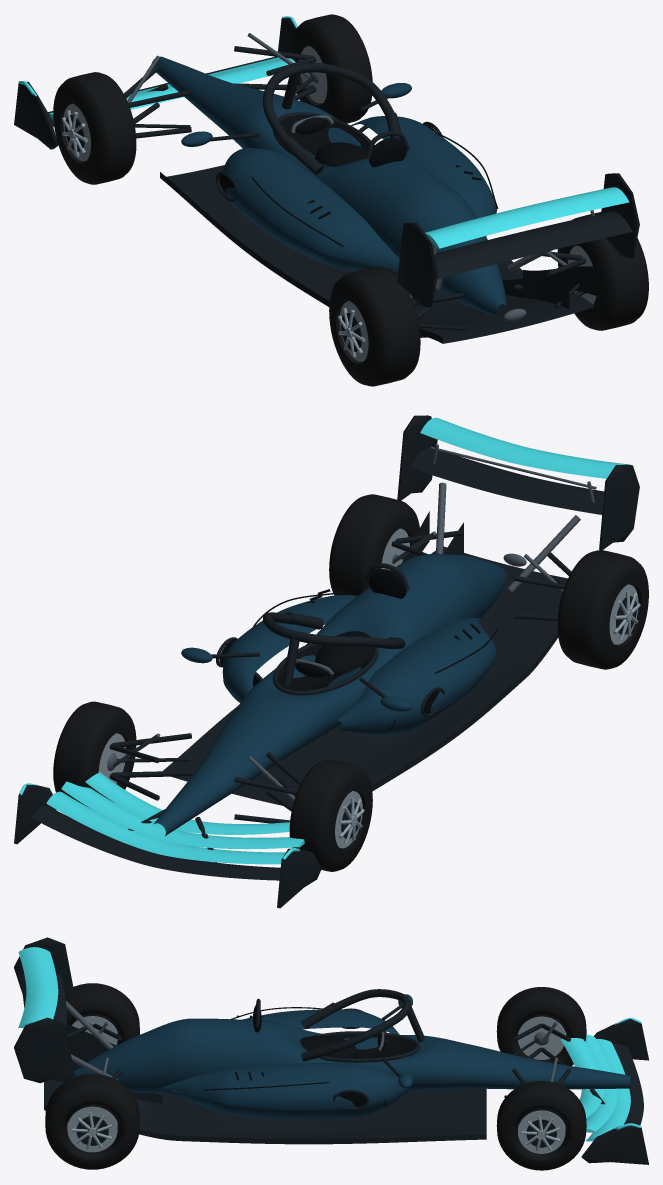
Rendered from eds-g02.glb.
3 views of the same model, one above another, from view 1: azimuth 30°, elevation 25°; view 2: azimuth 150°, elevation 25°; view 3: azimuth 270°, elevation 25° (orthographic). The views are drawn at different scales.
Parts seen in each view (by area): view 1: EDS_G02_CARBON, EDS_G02_BODY, EDS_G02_TIRE, EDS_G02_ACCENT, EDS_G02_RIM, EDS_G02_COCKPIT, EDS_G02_METAL, EDS_G02_INTAKE; view 2: EDS_G02_CARBON, EDS_G02_BODY, EDS_G02_TIRE, EDS_G02_ACCENT, EDS_G02_METAL, EDS_G02_RIM, EDS_G02_COCKPIT, EDS_G02_INTAKE; view 3: EDS_G02_BODY, EDS_G02_CARBON, EDS_G02_TIRE, EDS_G02_ACCENT, EDS_G02_RIM, EDS_G02_COCKPIT, EDS_G02_METAL, EDS_G02_INTAKE, EDS_G02_SEAM.
Part boxes in pixels (left/top/right/bottom): EDS_G02_CARBON: left=14, top=18, right=639, bottom=351; EDS_G02_BODY: left=151, top=56, right=506, bottom=317; EDS_G02_TIRE: left=53, top=14, right=648, bottom=386; EDS_G02_ACCENT: left=18, top=16, right=629, bottom=248; EDS_G02_RIM: left=62, top=46, right=596, bottom=361; EDS_G02_COCKPIT: left=280, top=116, right=368, bottom=166; EDS_G02_METAL: left=127, top=33, right=594, bottom=321; EDS_G02_INTAKE: left=219, top=124, right=481, bottom=219; EDS_G02_CARBON: left=14, top=415, right=639, bottom=908; EDS_G02_BODY: left=153, top=553, right=506, bottom=835; EDS_G02_TIRE: left=53, top=494, right=648, bottom=871; EDS_G02_ACCENT: left=19, top=417, right=627, bottom=864; EDS_G02_METAL: left=107, top=444, right=596, bottom=800; EDS_G02_RIM: left=98, top=528, right=640, bottom=848; EDS_G02_COCKPIT: left=278, top=631, right=374, bottom=690; EDS_G02_INTAKE: left=219, top=569, right=480, bottom=713; EDS_G02_BODY: left=74, top=994, right=630, bottom=1119; EDS_G02_CARBON: left=14, top=937, right=648, bottom=1164; EDS_G02_TIRE: left=45, top=983, right=586, bottom=1170; EDS_G02_ACCENT: left=18, top=947, right=641, bottom=1141; EDS_G02_RIM: left=67, top=1016, right=565, bottom=1153; EDS_G02_COCKPIT: left=300, top=1033, right=415, bottom=1058; EDS_G02_METAL: left=49, top=964, right=558, bottom=1081; EDS_G02_INTAKE: left=235, top=1004, right=366, bottom=1107; EDS_G02_SEAM: left=203, top=1007, right=329, bottom=1090.
Size of the model in its own units: 2.13 by 1.25 by 5.09.
